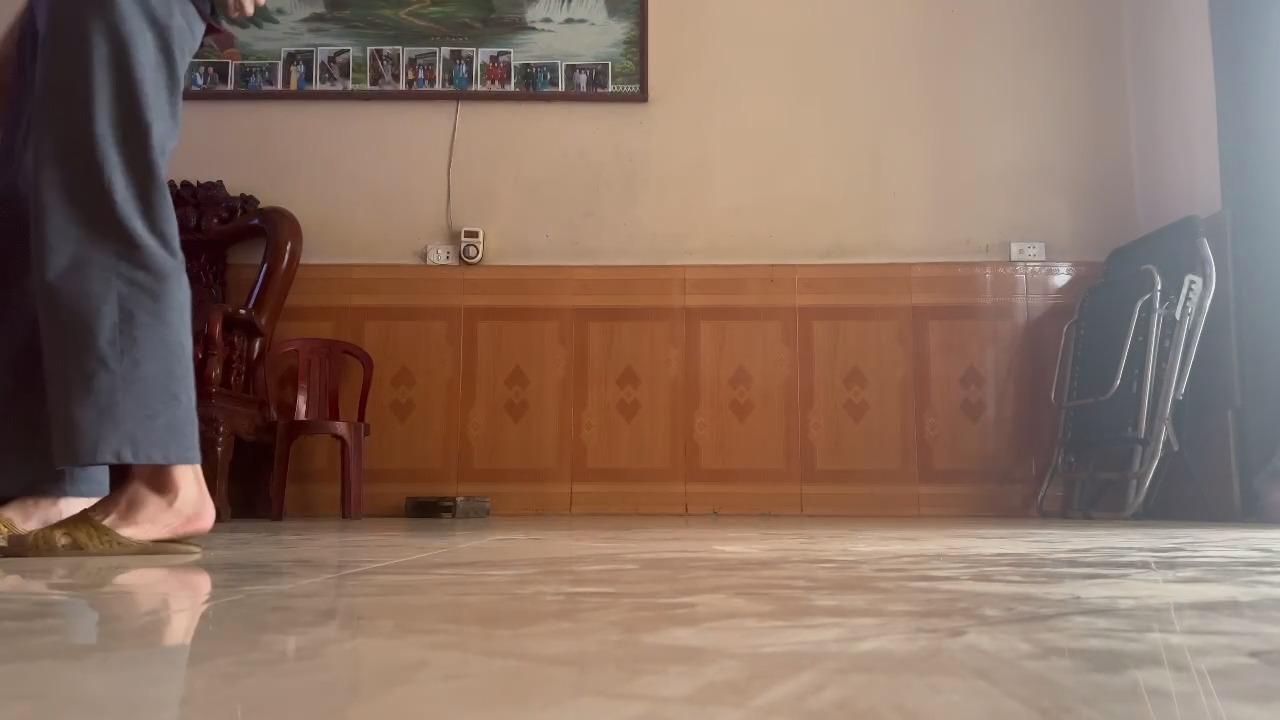no-boot: (0, 479, 226, 567)
